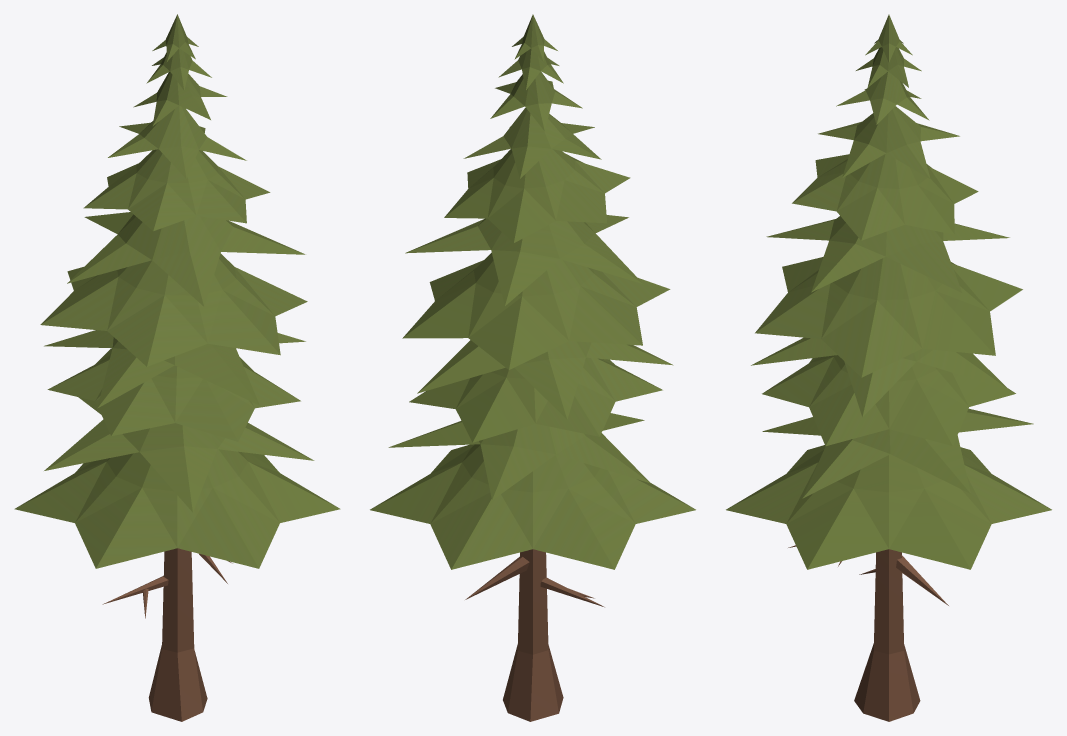
The model's file is Tree_4.fbx.
3 renders of one model, left to right at view 1: azimuth 30°, elevation 25°; view 2: azimuth 150°, elevation 25°; view 3: azimuth 270°, elevation 25°, orthographic.
Visible parts, largest first — view 1: polySurface10577; view 2: polySurface10577; view 3: polySurface10577.
Part boxes in pixels (x1=…): polySurface10577: x1=14, y1=14, x2=340, y2=721; polySurface10577: x1=370, y1=14, x2=695, y2=721; polySurface10577: x1=726, y1=14, x2=1051, y2=721.
Size of the model in its own units: 320 by 852 by 365.
